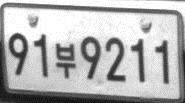1: (130, 37, 146, 83), (154, 38, 170, 84), (33, 33, 49, 77)
2: (104, 36, 126, 82)
9: (7, 31, 29, 76), (80, 36, 101, 80)
부: (54, 42, 77, 79)
